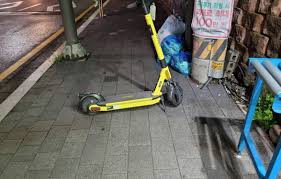kick_body: (107, 92, 161, 106)
kick_neck: (144, 16, 172, 76)
kick_wheel: (79, 92, 104, 115), (167, 83, 184, 104)
